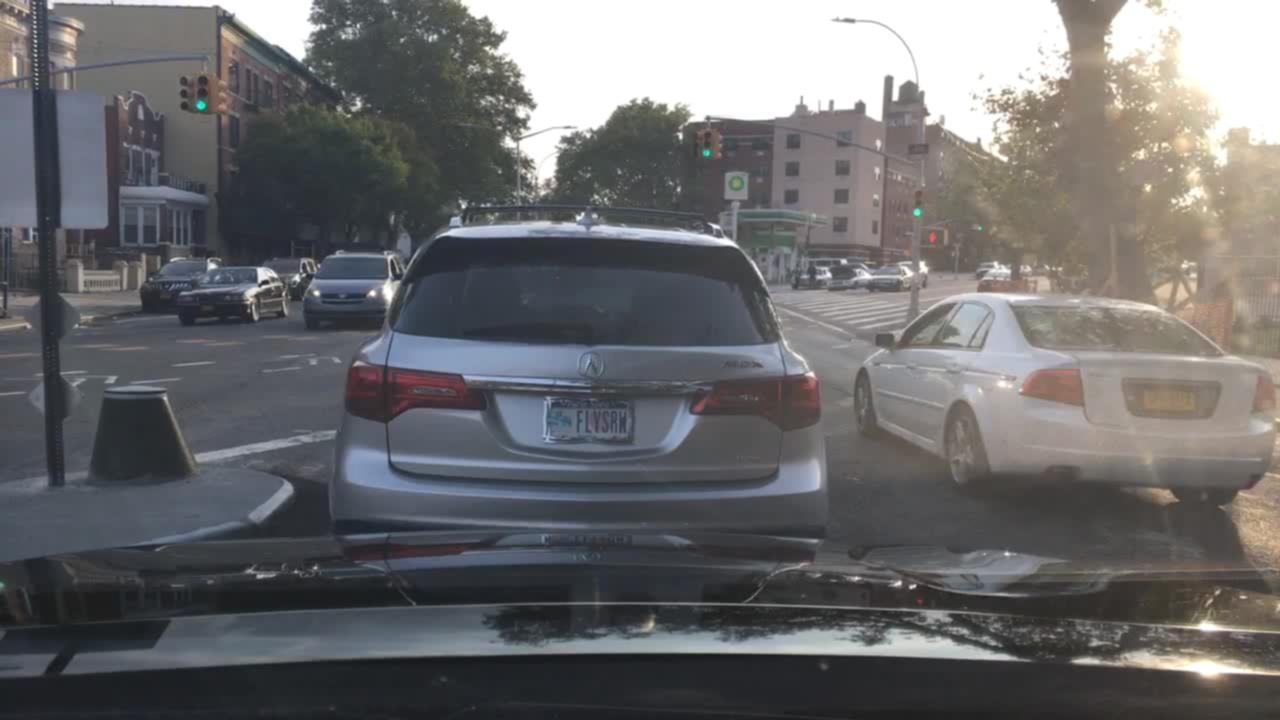acura: (575, 351, 610, 382)
